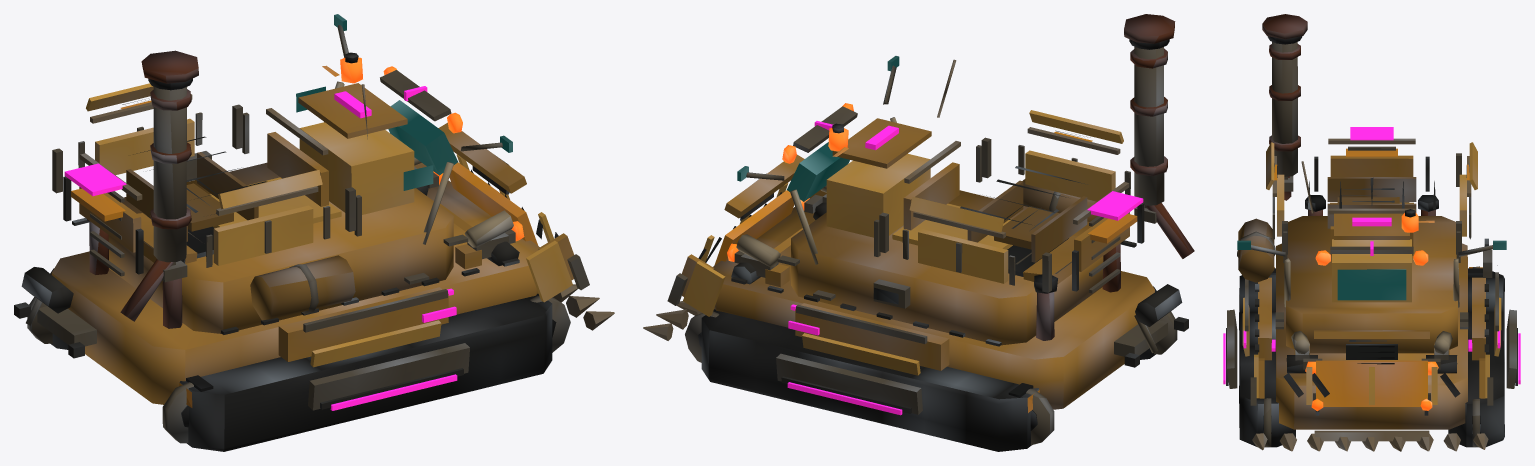
The model's file is harvester.glb.
The picture shows the model from 3 angles, left to right: view 1: azimuth 30°, elevation 25°; view 2: azimuth 150°, elevation 25°; view 3: azimuth 270°, elevation 25°; orthographic projection. The views are drawn at different scales.
Parts seen in each view (by area): view 1: Sandwar3D; view 2: Sandwar3D; view 3: Sandwar3D.
Part boxes in pixels (x1,y1,x2,y2): Sandwar3D: (14, 14, 614, 451); Sandwar3D: (643, 14, 1194, 451); Sandwar3D: (1223, 14, 1520, 451).
Size of the model in its own units: 2.62 by 1.83 by 1.71.
Materials: 15 (14 with a texture image).
